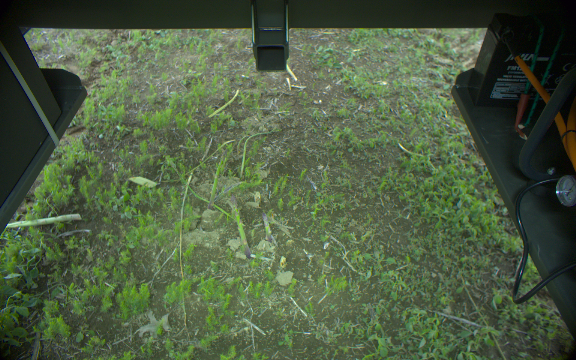aspa: (229, 194, 251, 259), (209, 143, 230, 210), (6, 213, 81, 231), (208, 89, 239, 119), (260, 208, 270, 242)
